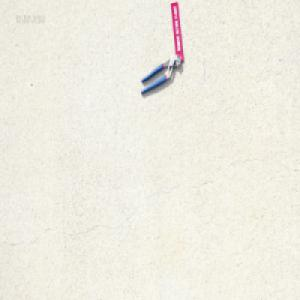Label: (170, 1, 184, 62)
Pliers: (140, 51, 182, 94)
